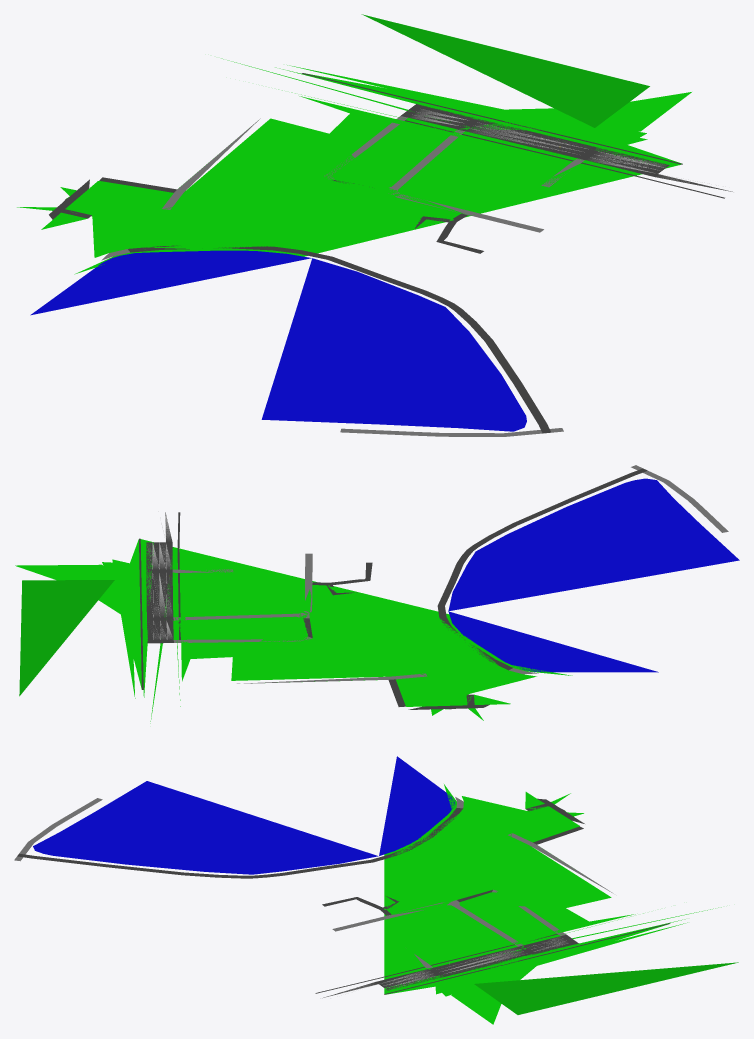
3 views of the same model, one above another, from view 1: azimuth 30°, elevation 25°; view 2: azimuth 150°, elevation 25°; view 3: azimuth 270°, elevation 25° (orthographic). The views are drawn at different scales.
Bounding box in the file's own units: 372 × 3 × 425.
